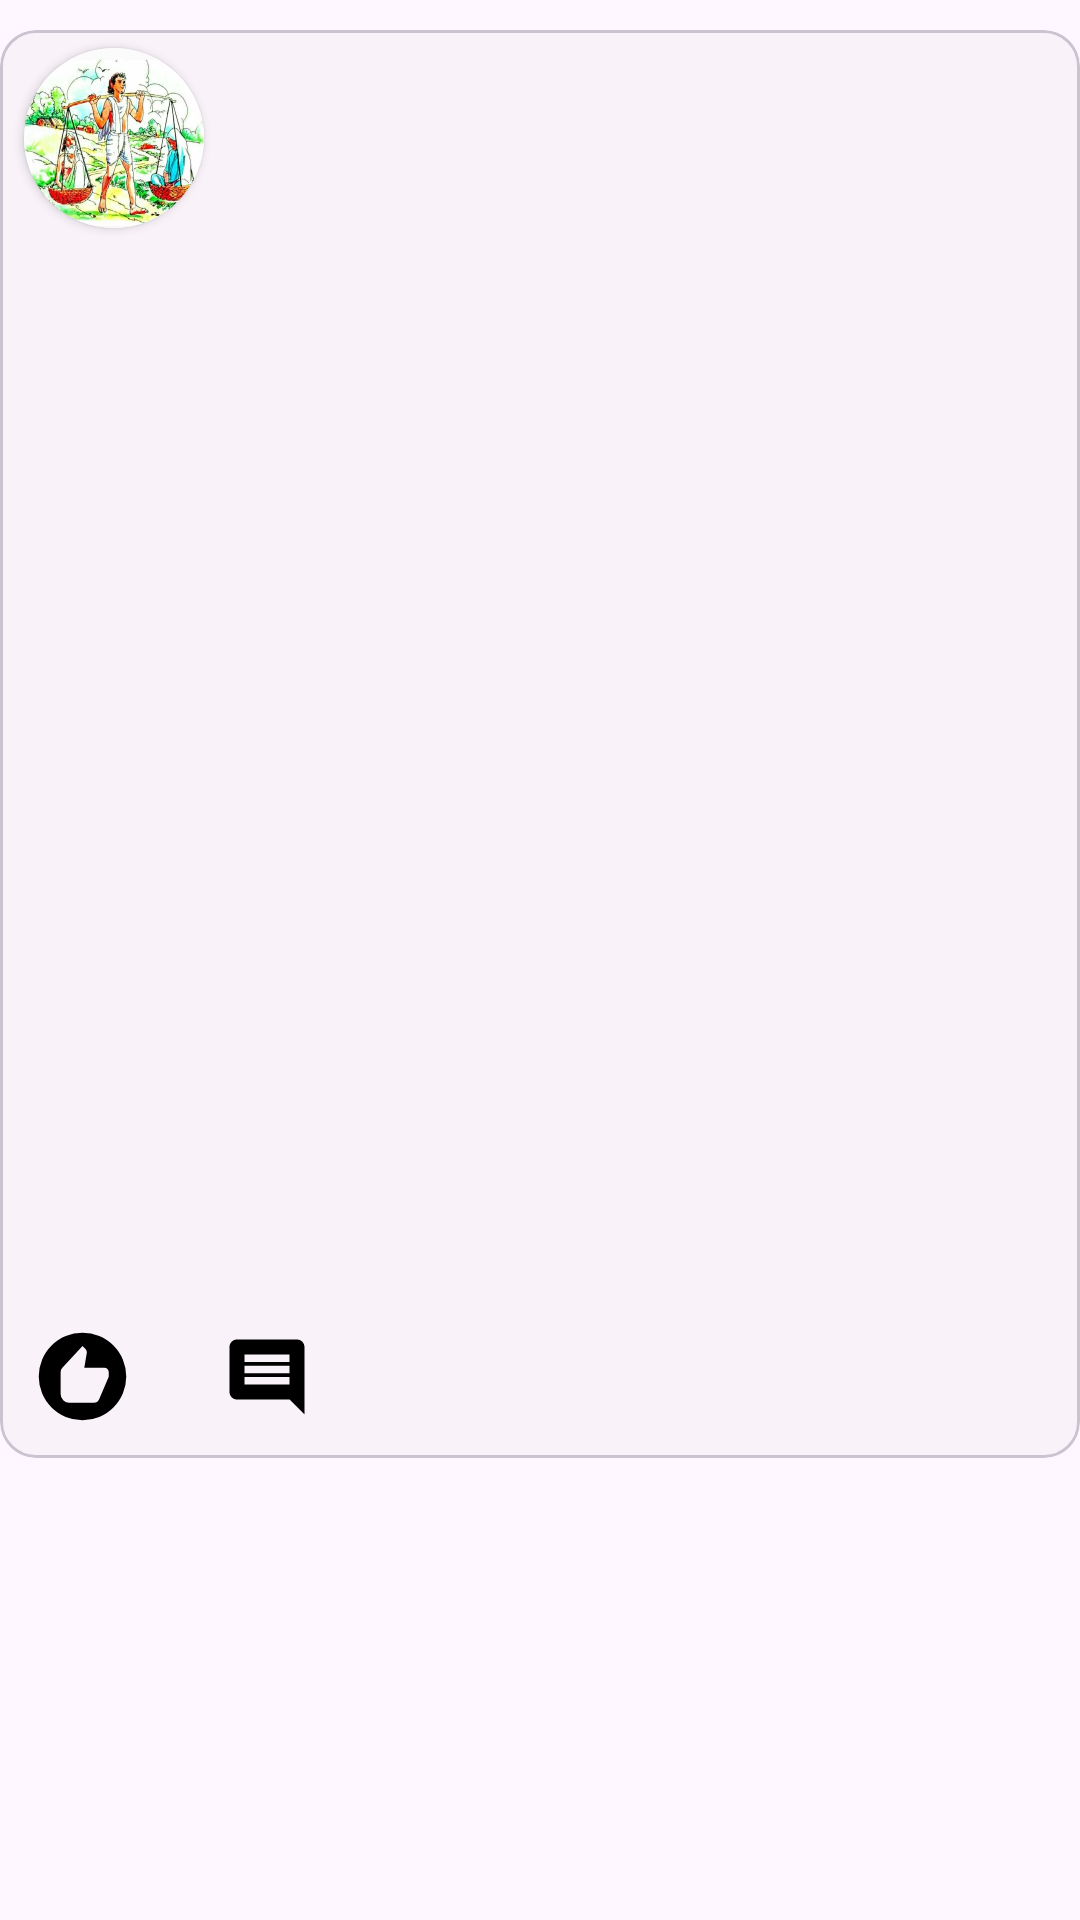

Point at icon controls on the screen. Image size 1080 x 1920, points as point (x, y).
shravan: point (114, 144)
